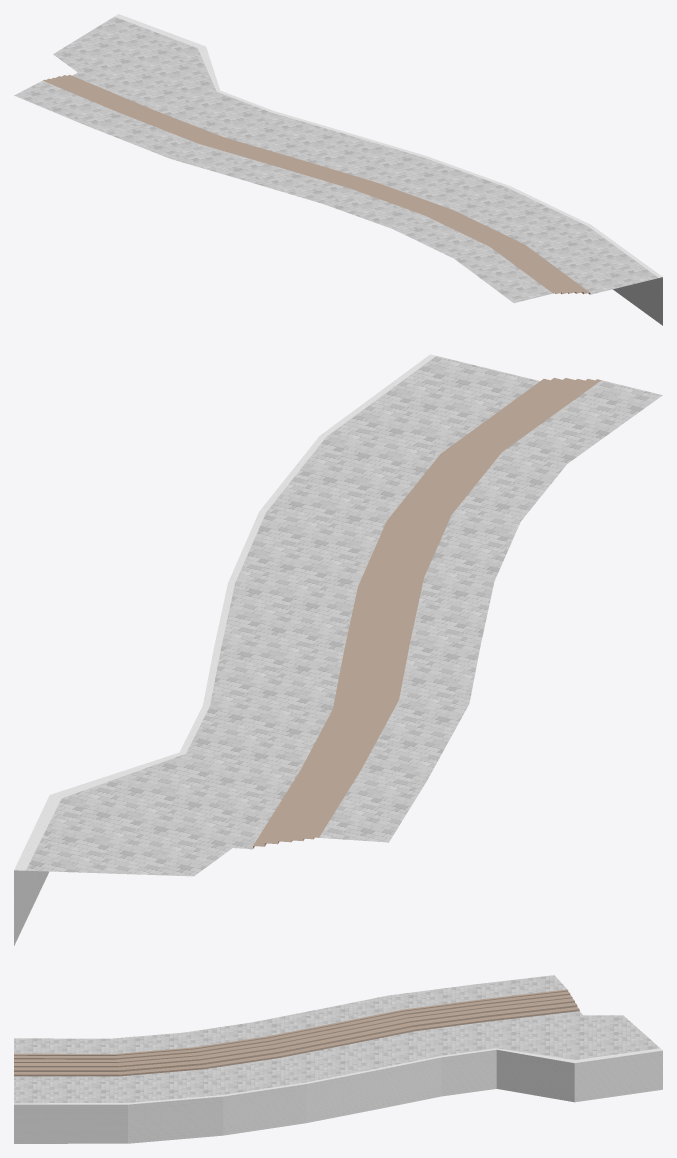
The model's file is StairGround_B_01.fbx.
3 renders of one model, top to bottom at view 1: azimuth 30°, elevation 25°; view 2: azimuth 150°, elevation 25°; view 3: azimuth 270°, elevation 25°, orthographic. The views are drawn at different scales.
Parts seen in each view (by area): view 1: StairGround_B_01; view 2: StairGround_B_01; view 3: StairGround_B_01.
Part boxes in pixels (x1,y1,x2,y2): StairGround_B_01: [14, 14, 662, 325]; StairGround_B_01: [14, 354, 662, 945]; StairGround_B_01: [14, 975, 662, 1143].
Size of the model in its own units: 6729 by 1221 by 15190.
